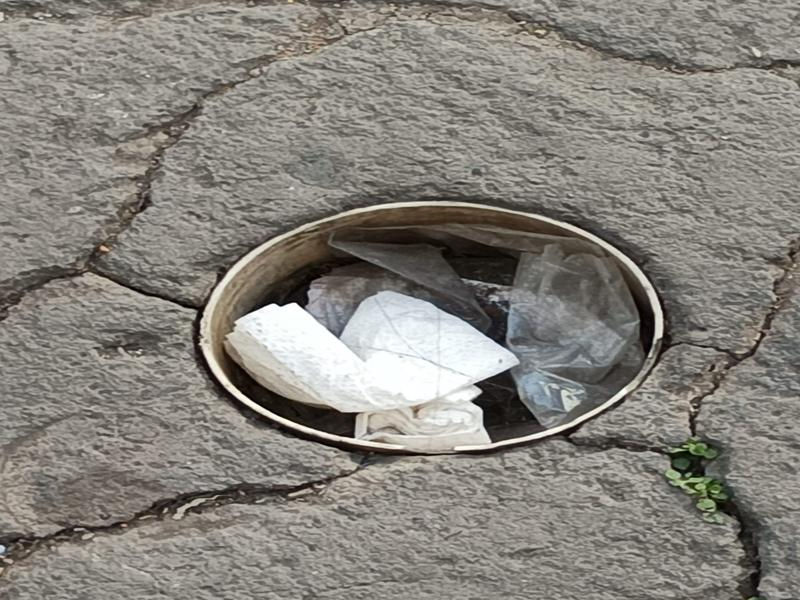papel: (224, 291, 519, 452)
